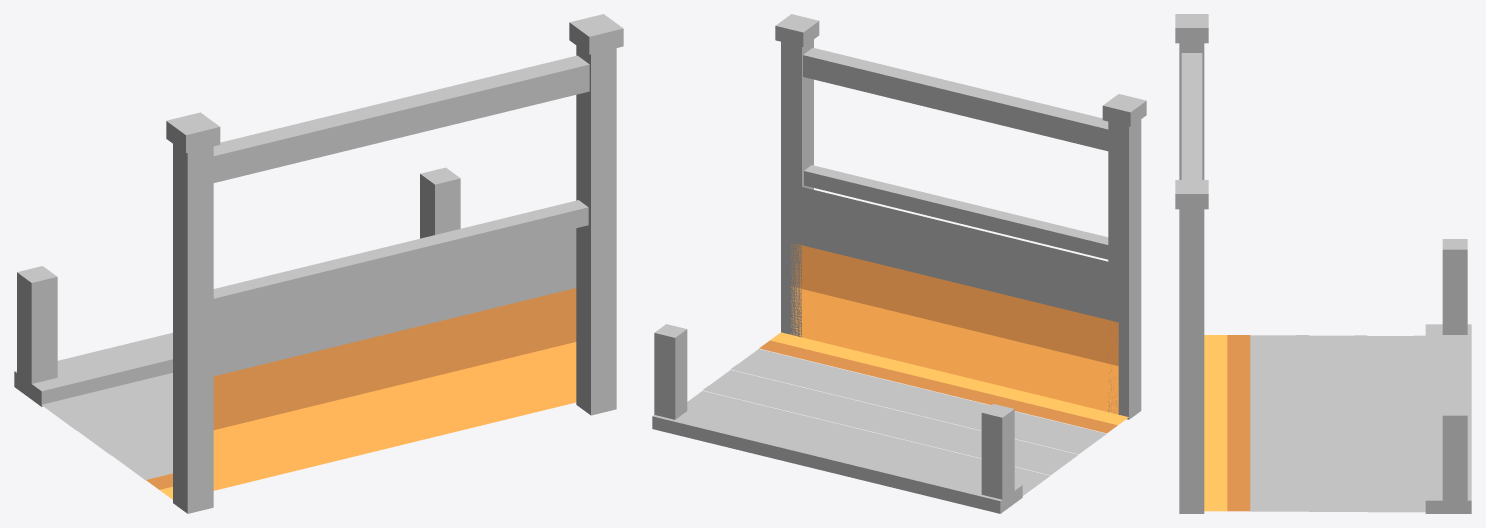
The model's file is building.stair_down.4.glb.
The picture shows the model from 3 angles, left to right: view 1: azimuth 30°, elevation 25°; view 2: azimuth 150°, elevation 25°; view 3: azimuth 270°, elevation 25°; orthographic projection. The views are drawn at different scales.
Visible parts, largest first — view 1: stair_down; view 2: stair_down; view 3: stair_down.
Boxes of the visible parts, box(x1,y1,x2,y2) form: stair_down: box(14, 14, 623, 513); stair_down: box(652, 14, 1146, 513); stair_down: box(1175, 14, 1471, 513).
Bounding box in the file's own units: 1.02 × 0.85 × 0.71.
